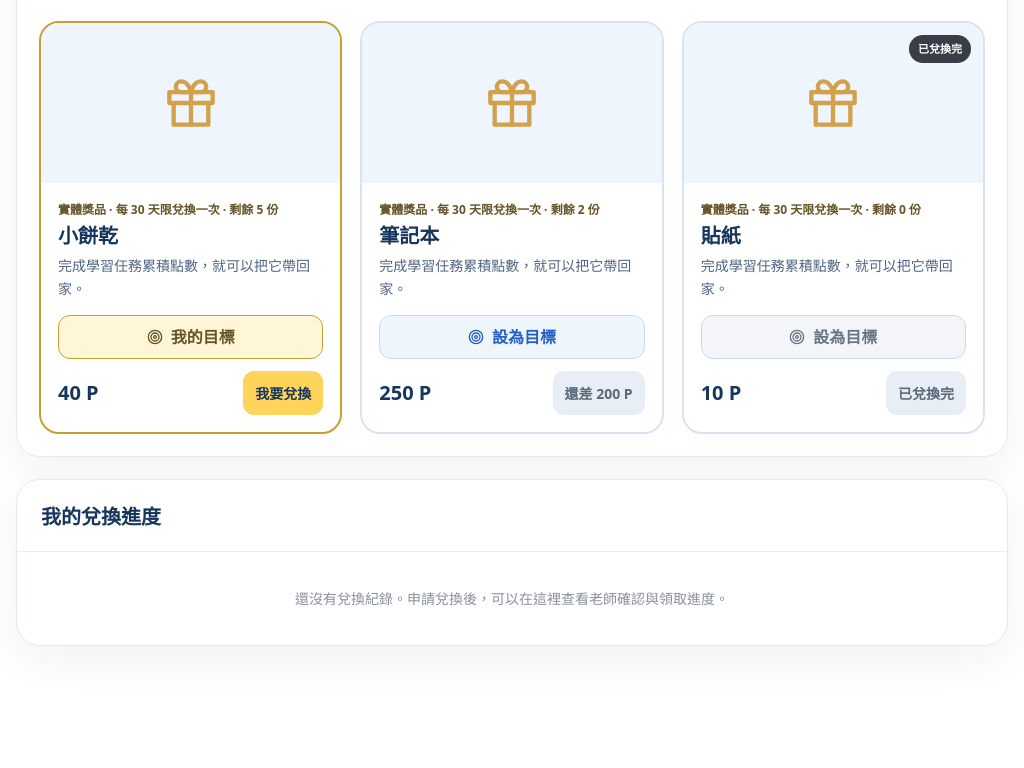
Test: 確認兌換後依後端重讀點數與紀錄，累積 XP 保留
This screenshot has width=1024, height=768.
(page scrolled)
What coordinates should you click on to do the following:
click the button "我要兌換"
I would click on:
 (283, 393)
Its box is [243,371,323,415].
(page scrolled)
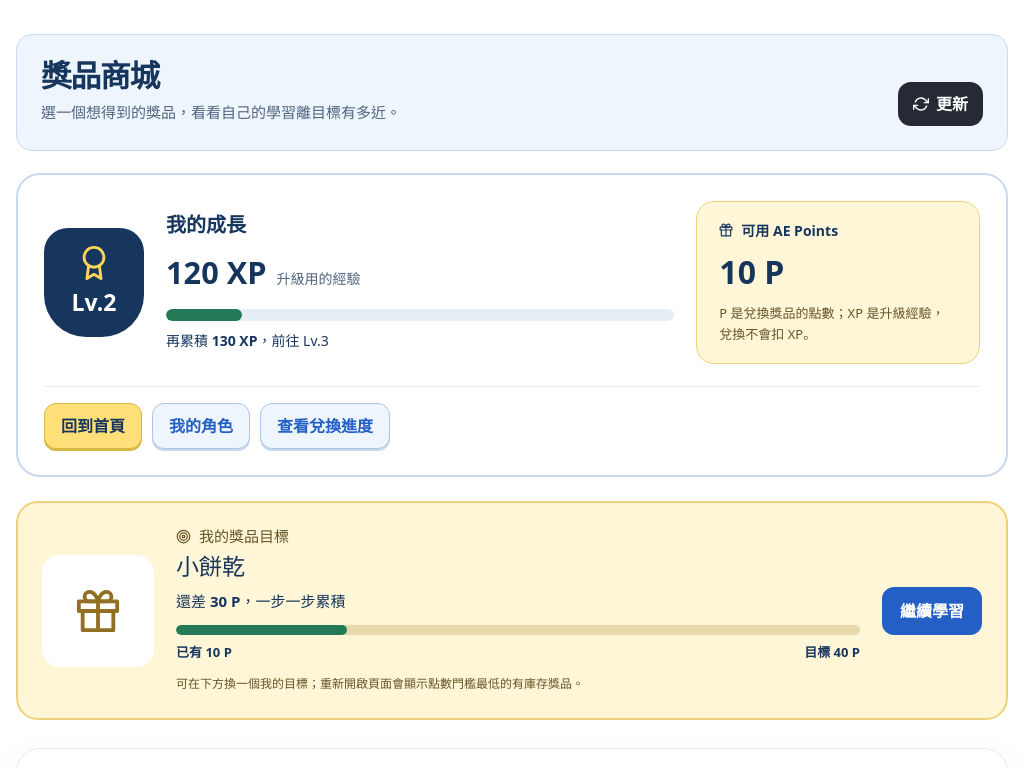
Expected: the text "120 XP" is shown, [166,246,266,297]
Expected: the text "10 P" is shown, [719,250,784,292]
